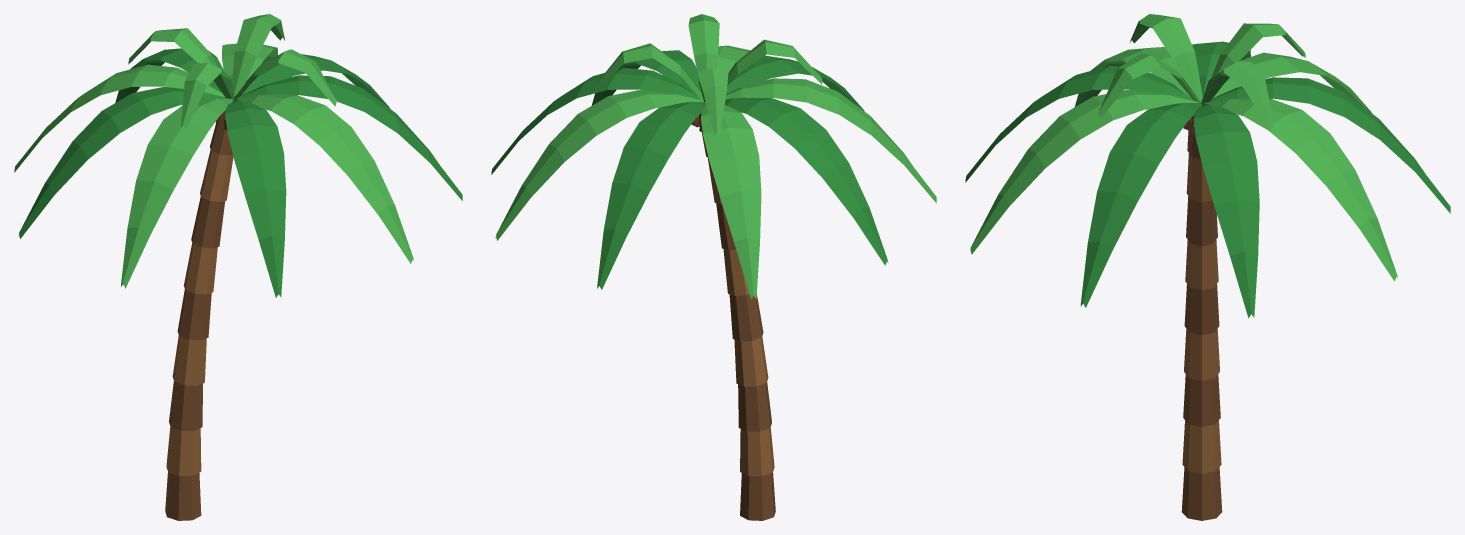
File: palm-tree.glb
3 renders of one model, left to right at view 1: azimuth 30°, elevation 25°; view 2: azimuth 150°, elevation 25°; view 3: azimuth 270°, elevation 25°, orthographic. The views are drawn at different scales.
Visible parts, largest first — view 1: palm-tree; view 2: palm-tree; view 3: palm-tree.
Boxes of the visible parts, bbox=[...] form: palm-tree: bbox=[14, 14, 462, 520]; palm-tree: bbox=[491, 14, 936, 520]; palm-tree: bbox=[965, 14, 1450, 520].
Bounding box in the file's own units: 8.68 × 9.74 × 8.59.
